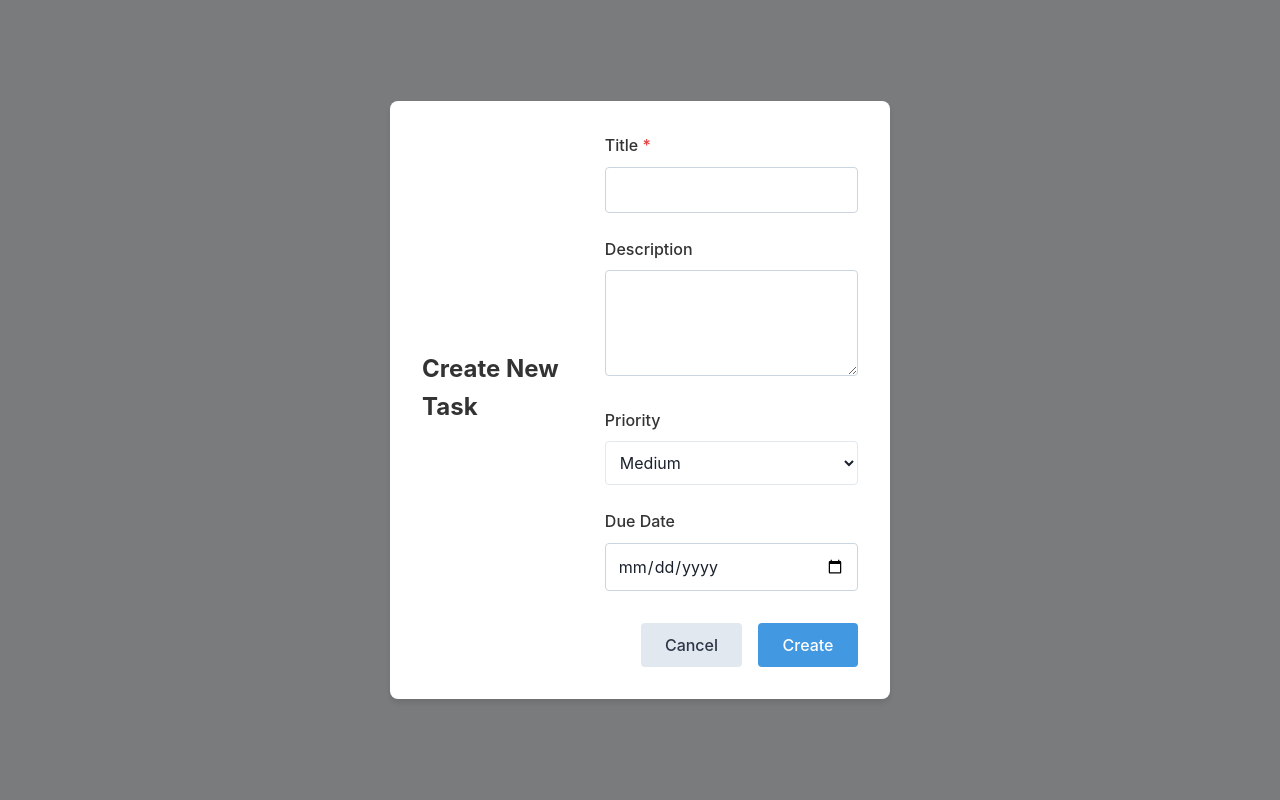
Test: TaskForm › displays validation error for empty title
Step 1. Click the button with aria-label "Create task" → (808,645), box [758,623,858,667]
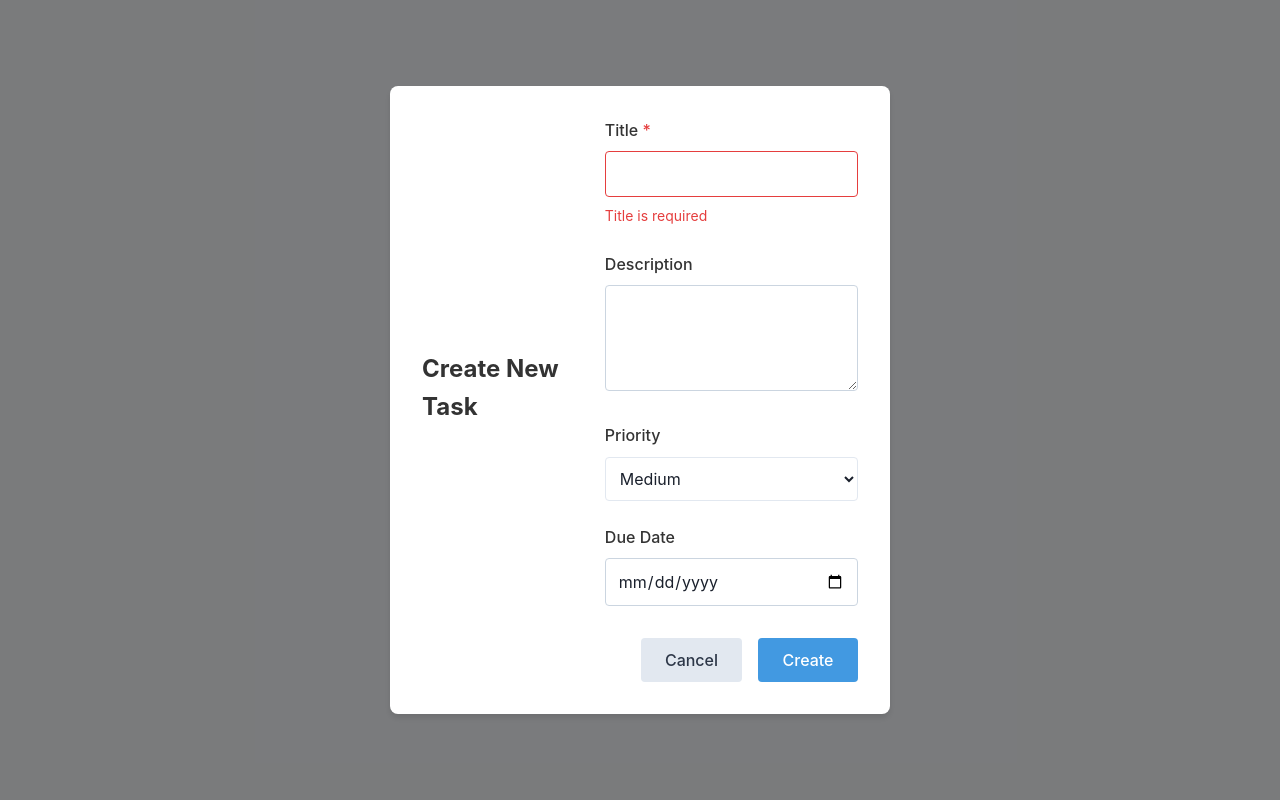
expect the text "Title is required" is shown: met, box [605,207,707,224]
